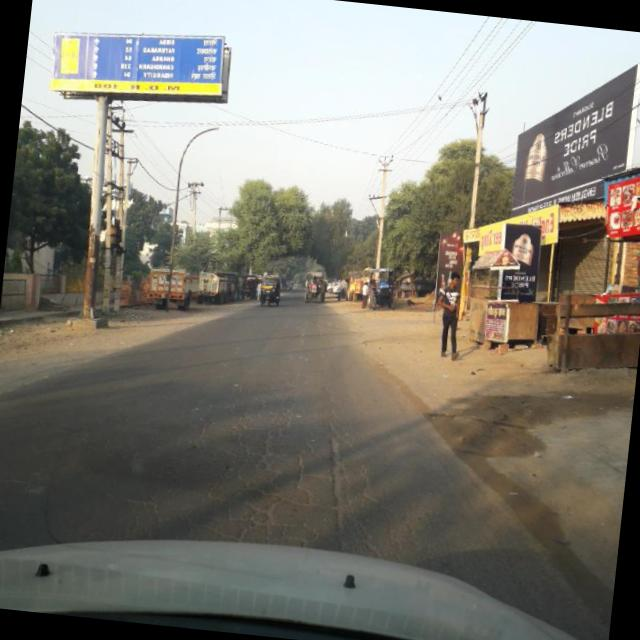crack: (145, 370, 395, 548)
